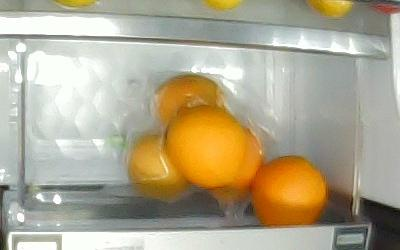orange: (166, 105, 244, 190), (251, 155, 327, 225)
orange_vinyl: (208, 125, 263, 202), (127, 133, 189, 198), (156, 75, 223, 124)
